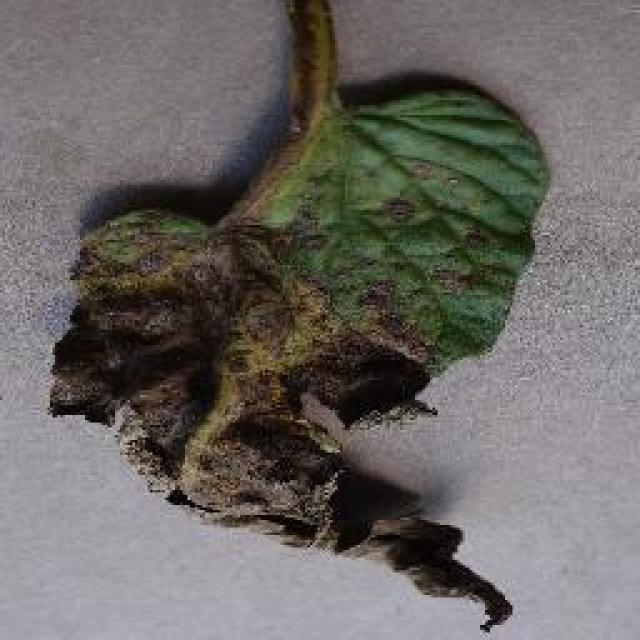Tomato___Early_blight: (45, 0, 554, 634)
